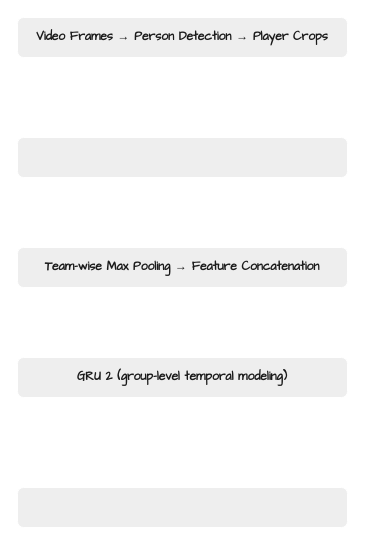
This 365x545 diagram has some shape labels left out. The shapes that lost their labels are listed below. From the top down, each one's box as (x1, y1, x2, y2) in pixels, then its label:
(16, 136, 348, 178): GRU 1 (per-player temporal modeling)
(16, 486, 348, 528): Fully Connected → Softmax (Group Activity)
